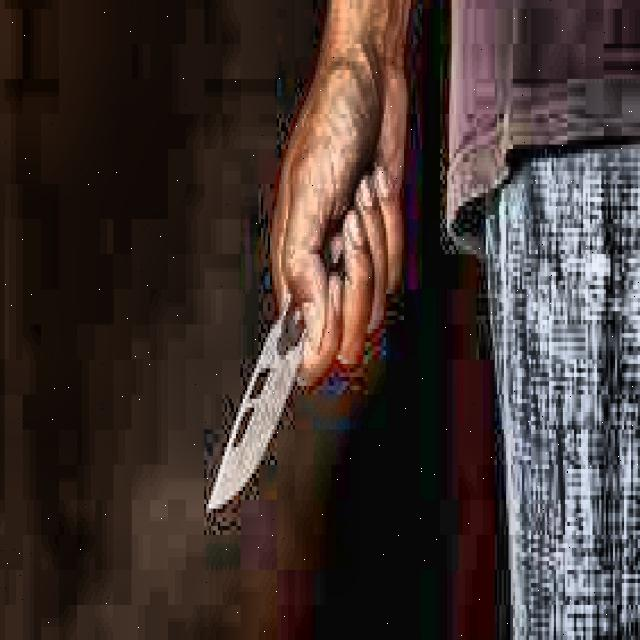knife: (207, 176, 384, 509)
